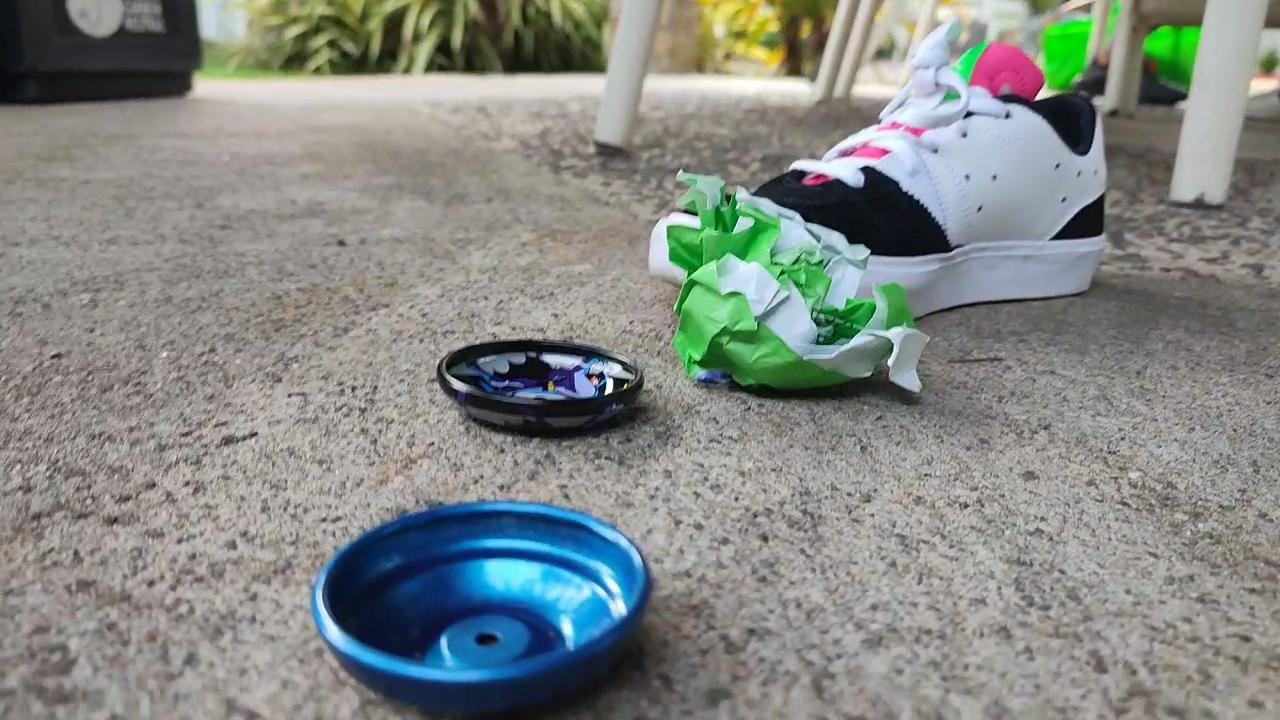Paper: (662, 161, 929, 408)
